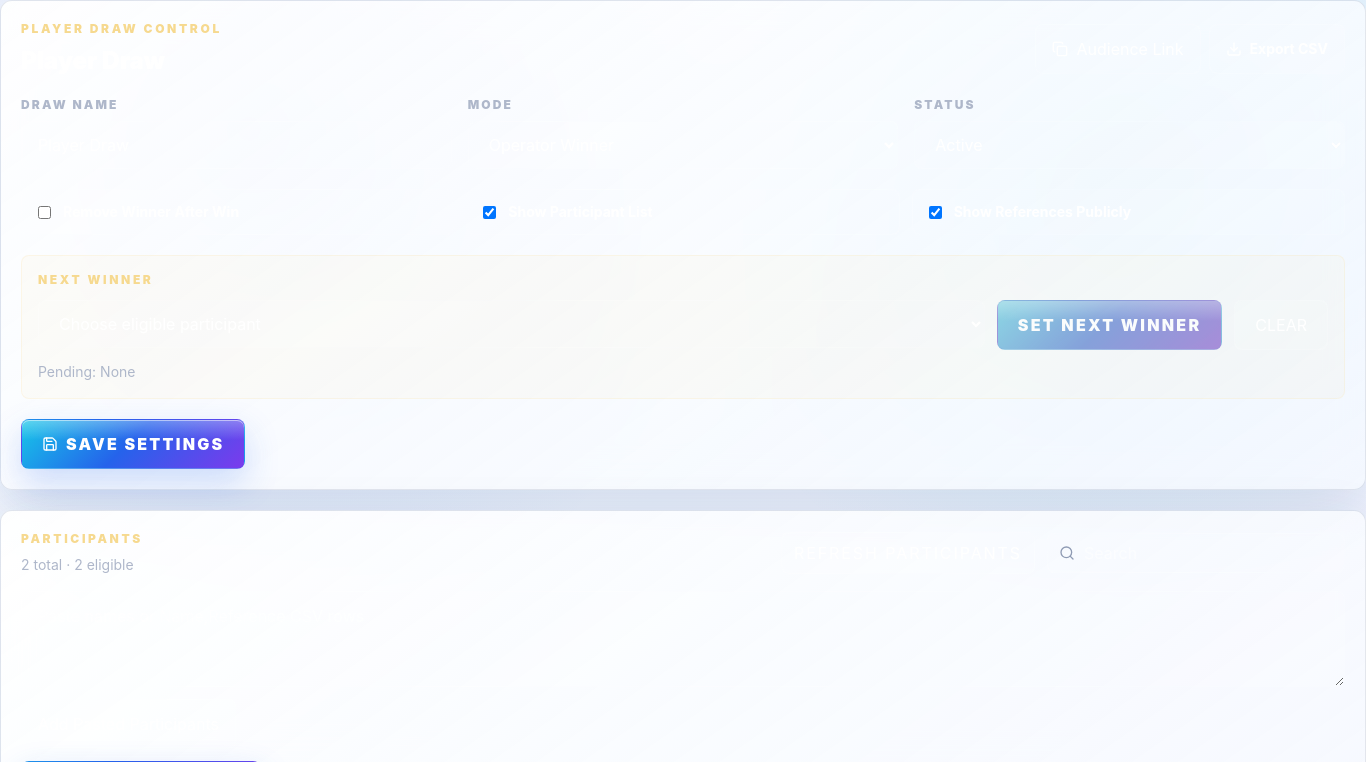
Test case: admin feedback banners › player draw settings use a readable fallback instead of an empty success banner
The width and height of the screenshot is (1366, 762).
Click the button "SAVE SETTINGS" at x=133, y=444, box x1=21 y1=419 x2=246 y2=469
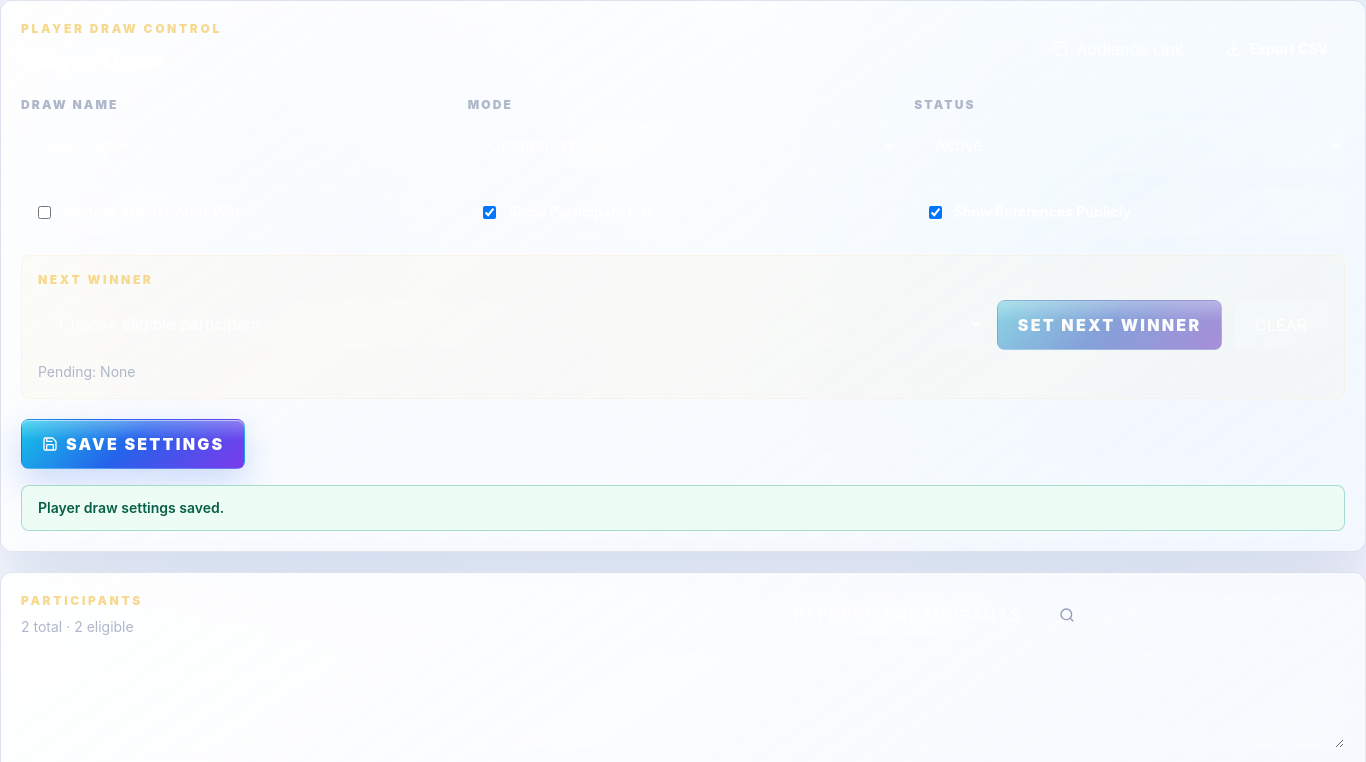
Result: the text "Player draw settings saved." is shown at x1=21 y1=485 x2=1345 y2=531
